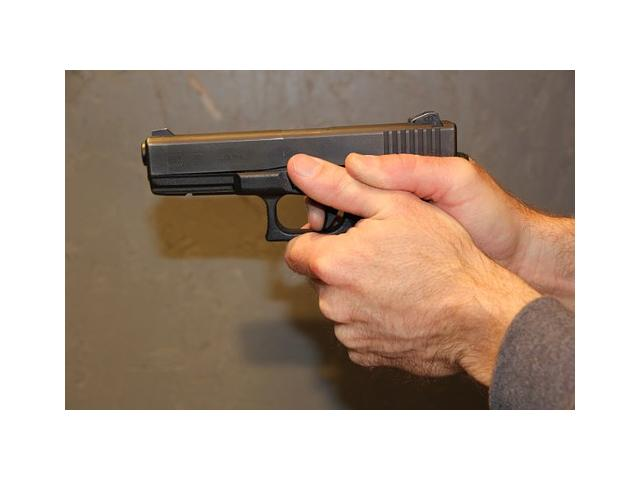pistol: (136, 110, 465, 361)
